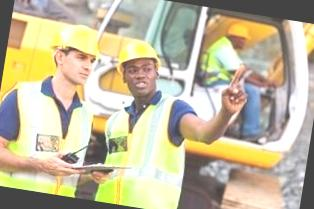helmet: (45, 19, 109, 66), (112, 36, 167, 84)
person: (0, 11, 111, 199), (89, 33, 205, 209)
